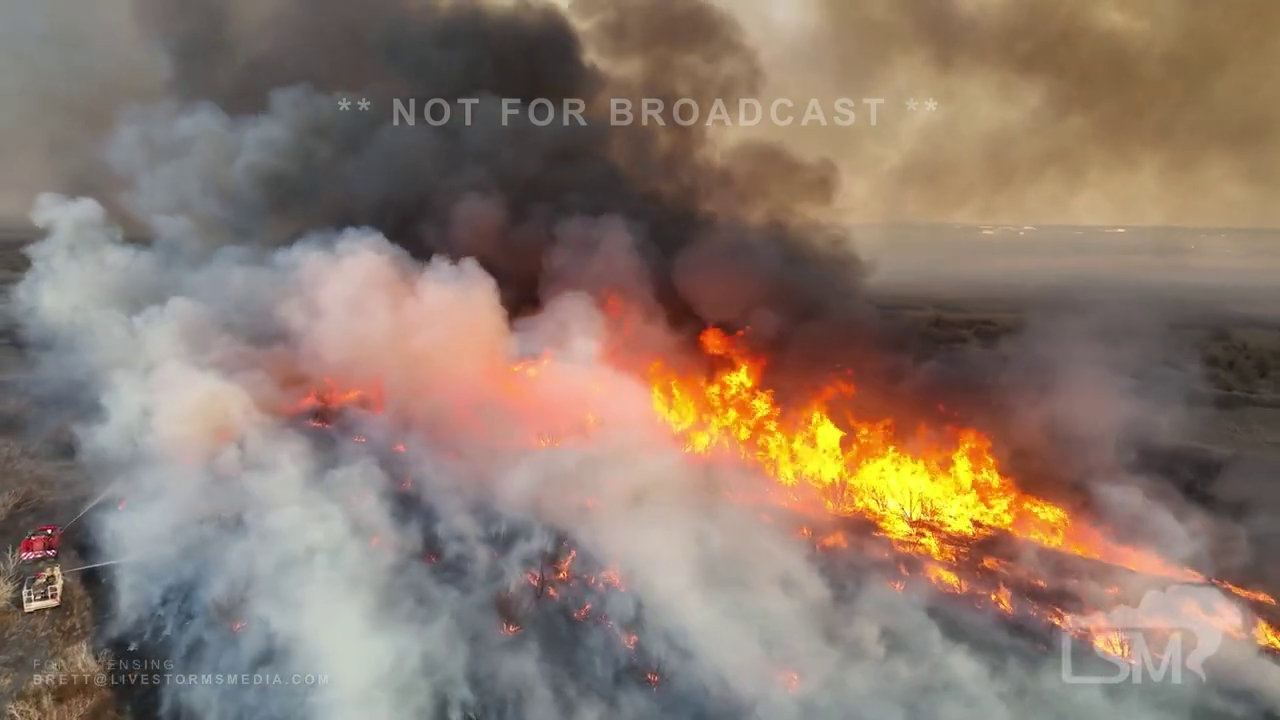forest_fire: (645, 328, 1279, 658), (523, 544, 623, 625), (295, 377, 381, 426), (504, 355, 551, 384), (497, 596, 522, 633), (613, 627, 639, 650), (528, 433, 562, 446), (576, 412, 597, 433), (782, 670, 798, 686), (512, 391, 519, 400), (396, 444, 402, 451), (584, 498, 589, 503), (654, 681, 655, 683)
